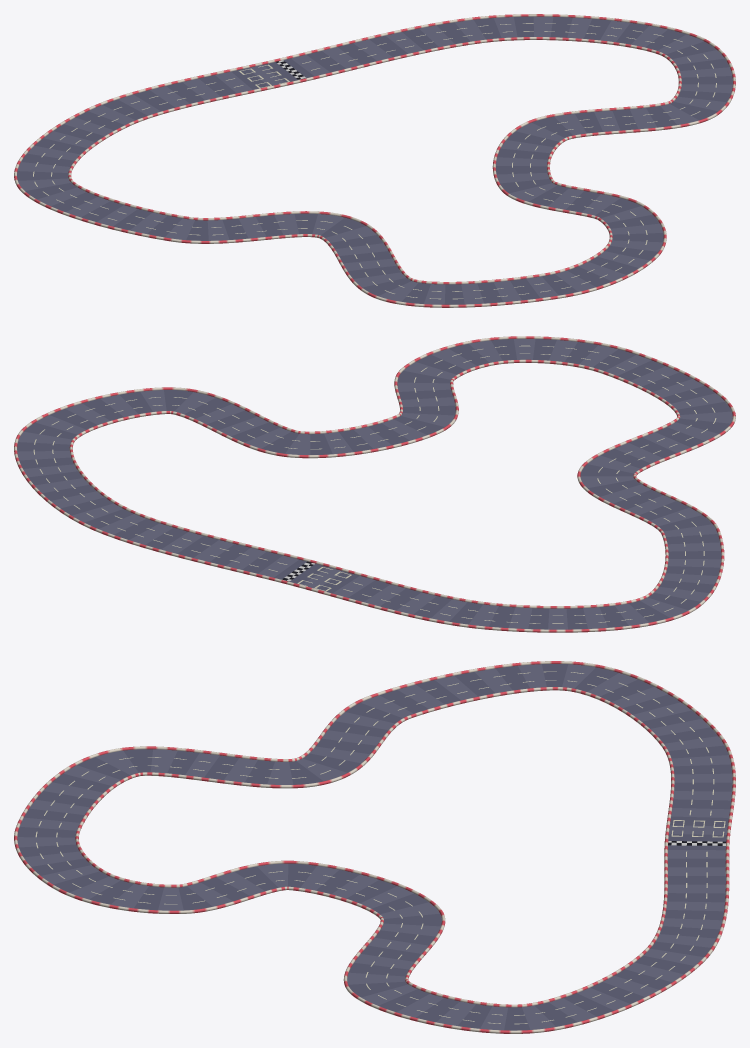
The model's file is highway-track-winding.obj.
The picture shows the model from 3 angles, top to bottom: view 1: azimuth 30°, elevation 25°; view 2: azimuth 150°, elevation 25°; view 3: azimuth 270°, elevation 25°; orthographic projection. The views are drawn at different scales.
Visible parts, largest first — view 1: track; view 2: track; view 3: track.
Boxes of the visible parts, bbox=[...] form: track: bbox=[14, 14, 735, 307]; track: bbox=[14, 336, 735, 632]; track: bbox=[14, 661, 735, 1033].
Bounding box in the file's own units: 17163 × 68 × 14117.
